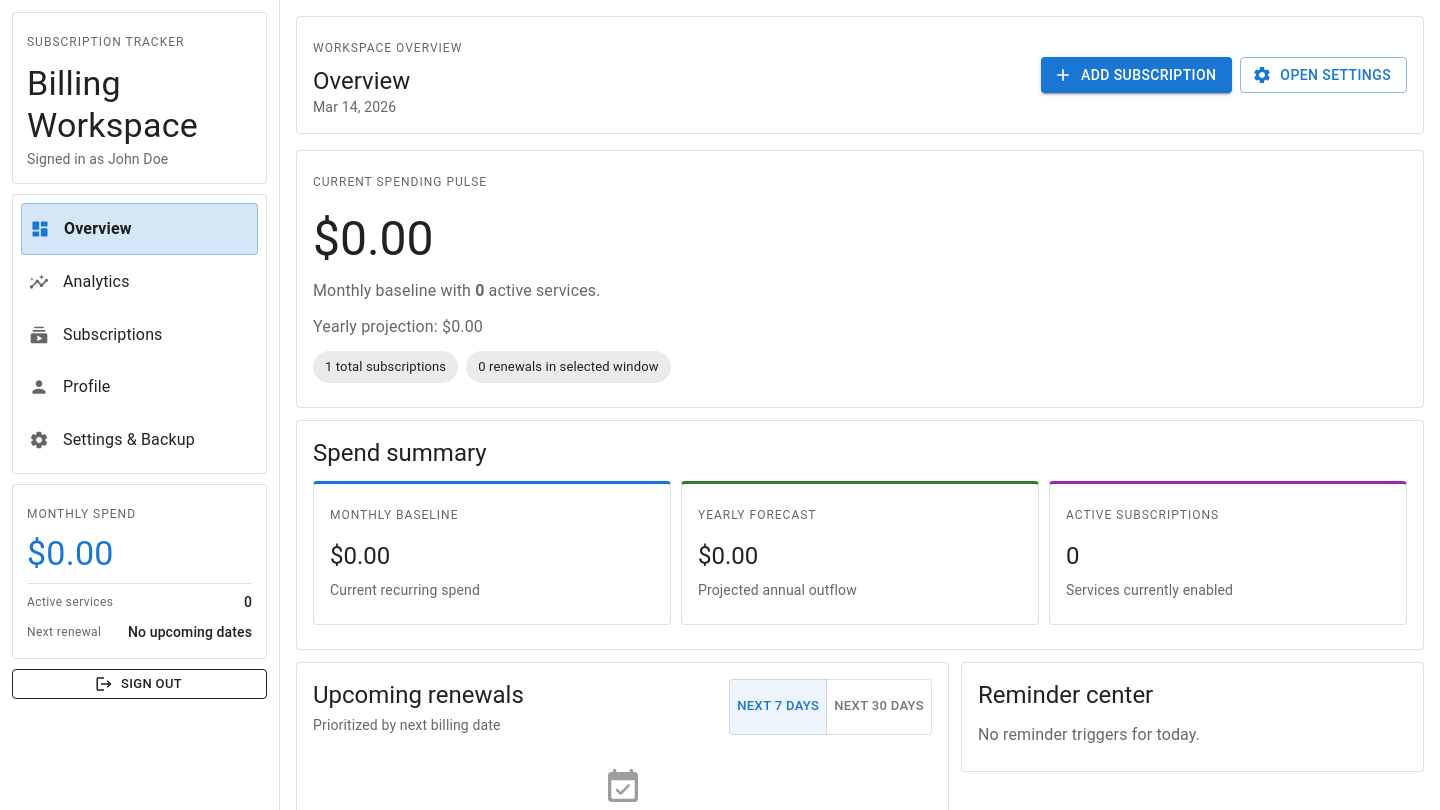
Test: App auth and profile flows › shows analytics empty state and routes to subscriptions on CTA
The width and height of the screenshot is (1440, 810).
Click the button "Analytics". click: [79, 282]
box: [29,272,130,292]
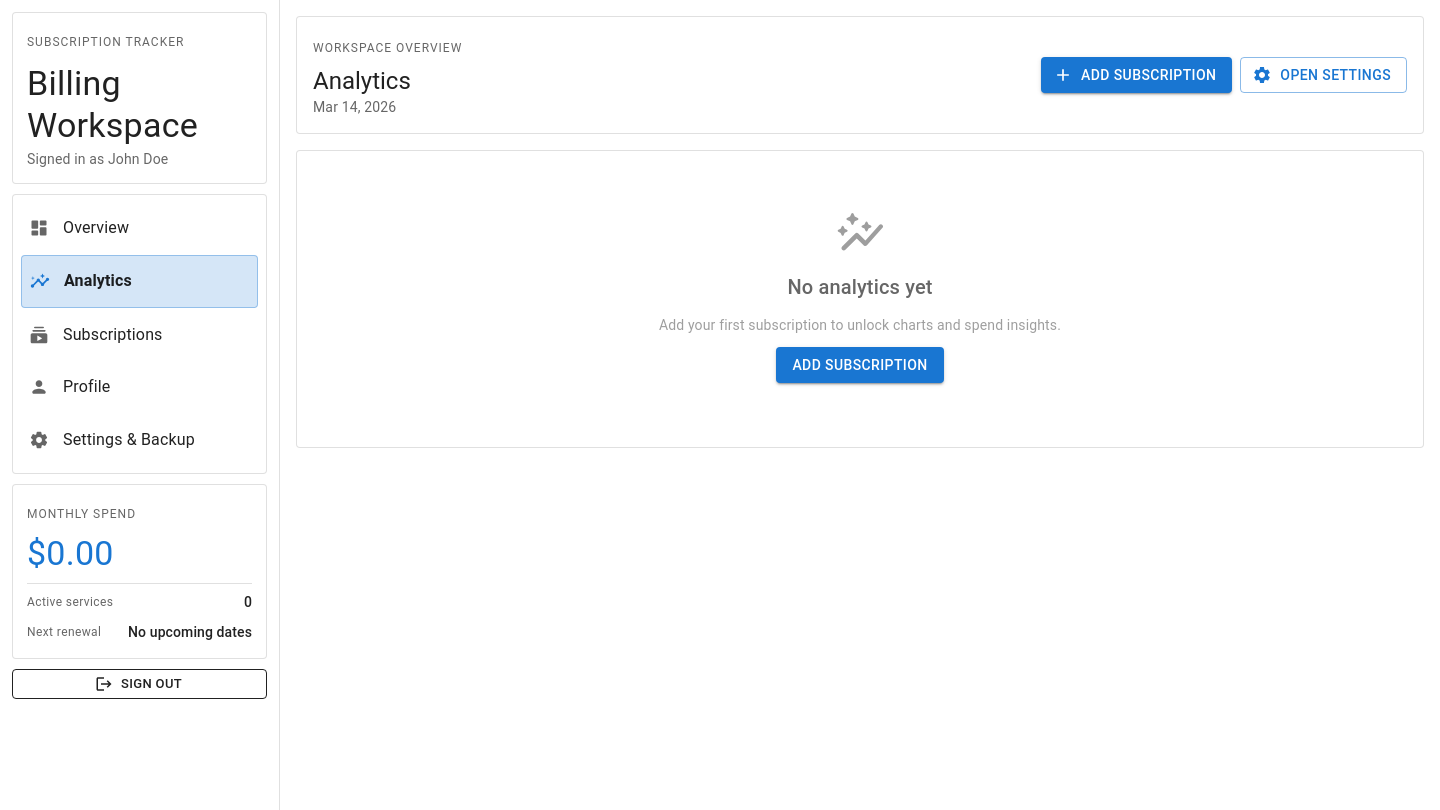
Result: the text "Add your first subscription to unlock charts and spend insights." is shown at [659,315,1061,335]
Click the button "Add subscription" below "No analytics yet". click: [860, 365]
box: [776,347,944,384]
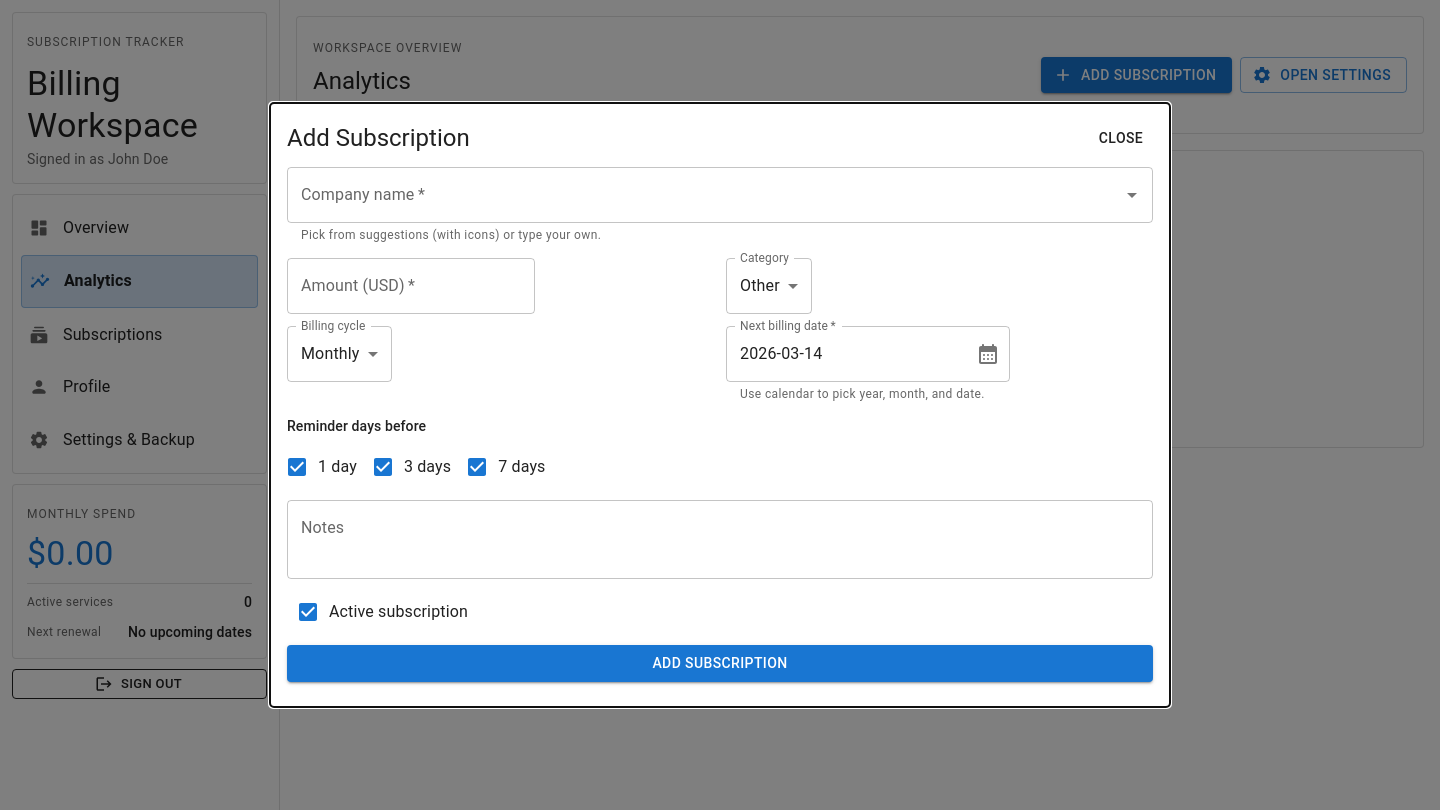
Result: the heading "Add Subscription" is shown at [287,122,470,154]
